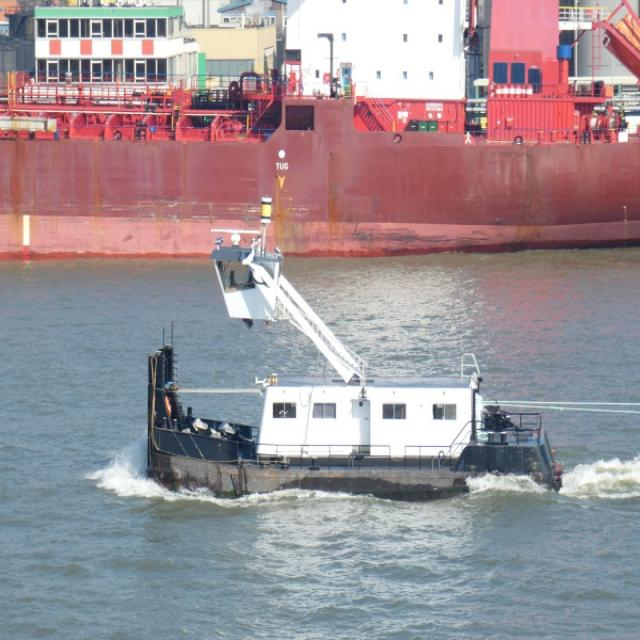tugboat: (145, 226, 567, 508)
